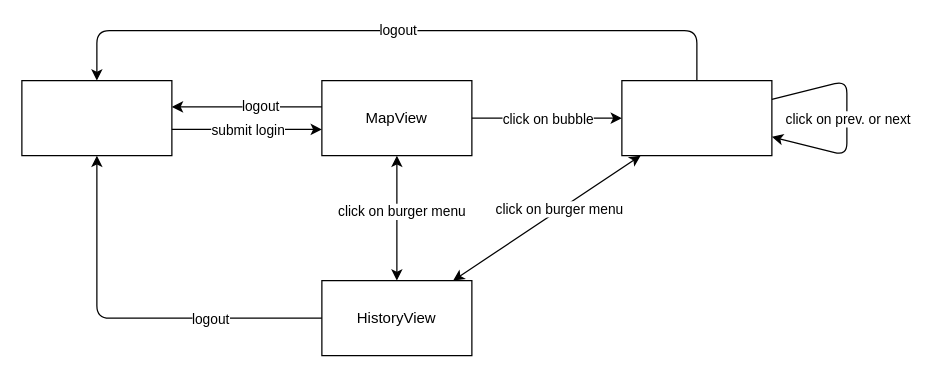
Some shapes in this 931 by 378 pixel diagram are drawn without their labels. The shapes that lost their labels are listed below. From the top down, each one's centre as x and y in pixels, then its label:
At [96,117]: "LoginView".
At [696,117]: "CommentView".
